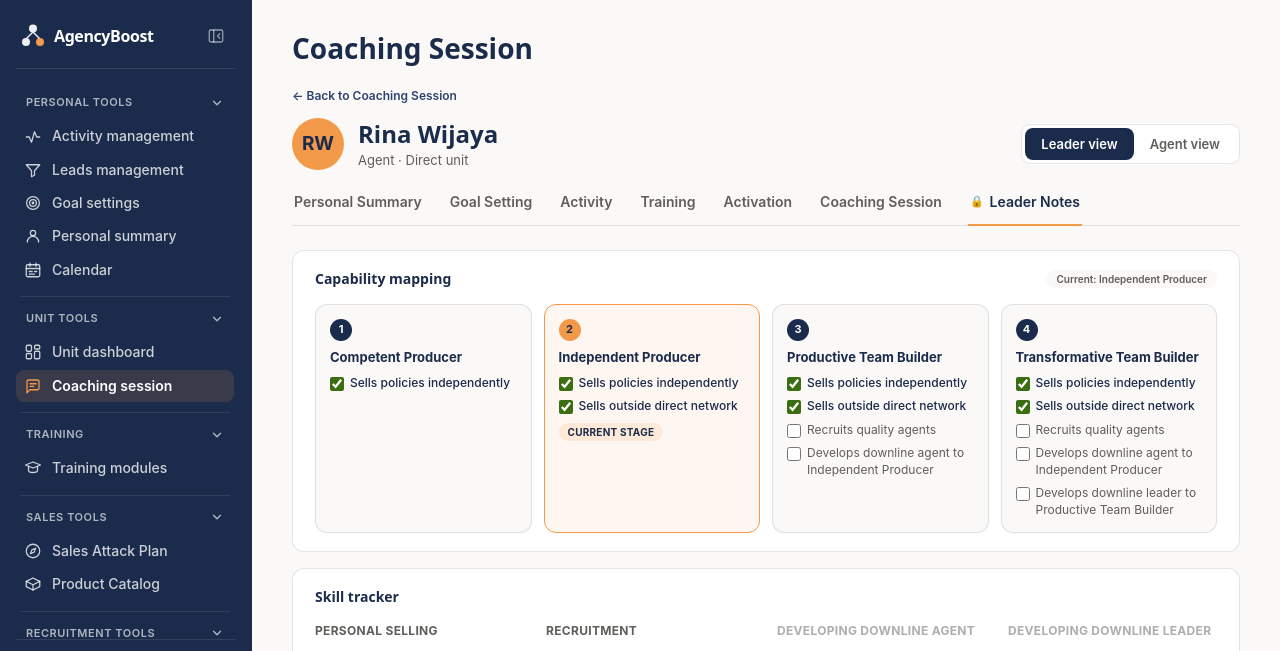
Test: the Leader Notes tab (P11-T9) › Capability mapping › shows a failed read after a conflict where the profile was
The image size is (1280, 651).
Click the 1st checkbox labelled "Recruits quality agents" at x=794, y=431, box [787,424,801,438]
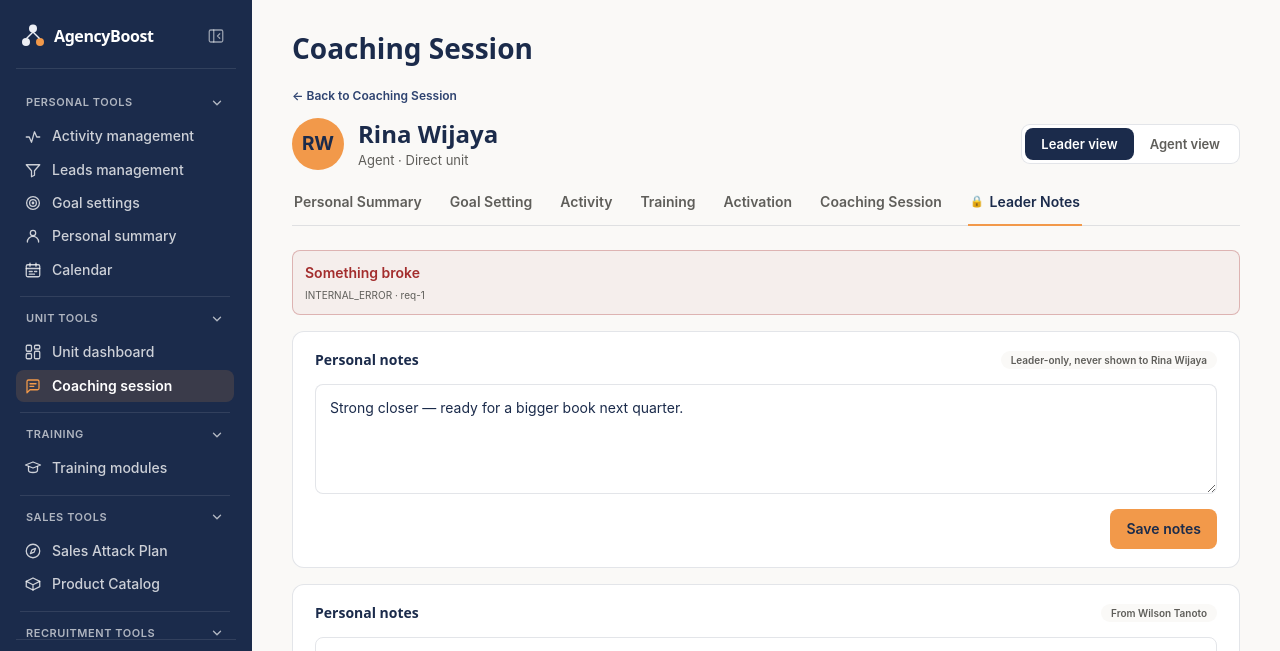
Check: the message shows "Something broke", box [305,264,420,281]
